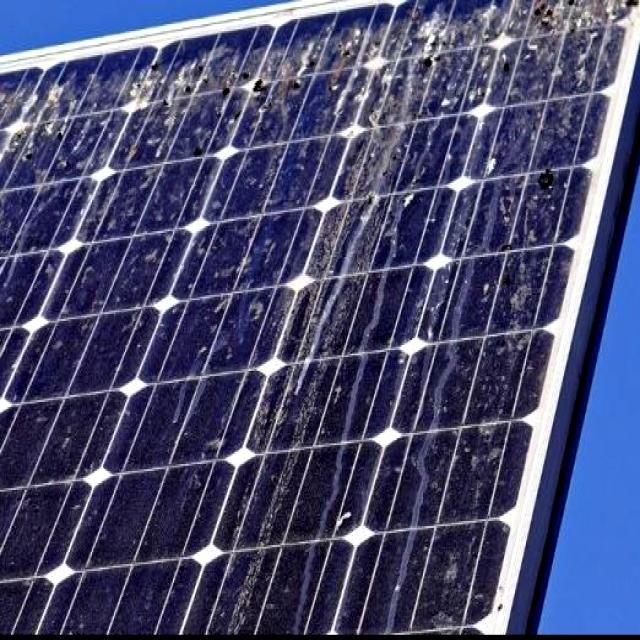bird: (5, 88, 64, 190), (203, 54, 310, 102), (144, 44, 204, 119), (398, 5, 450, 76), (524, 0, 594, 50), (526, 150, 564, 210), (504, 236, 525, 309), (182, 134, 217, 174)
